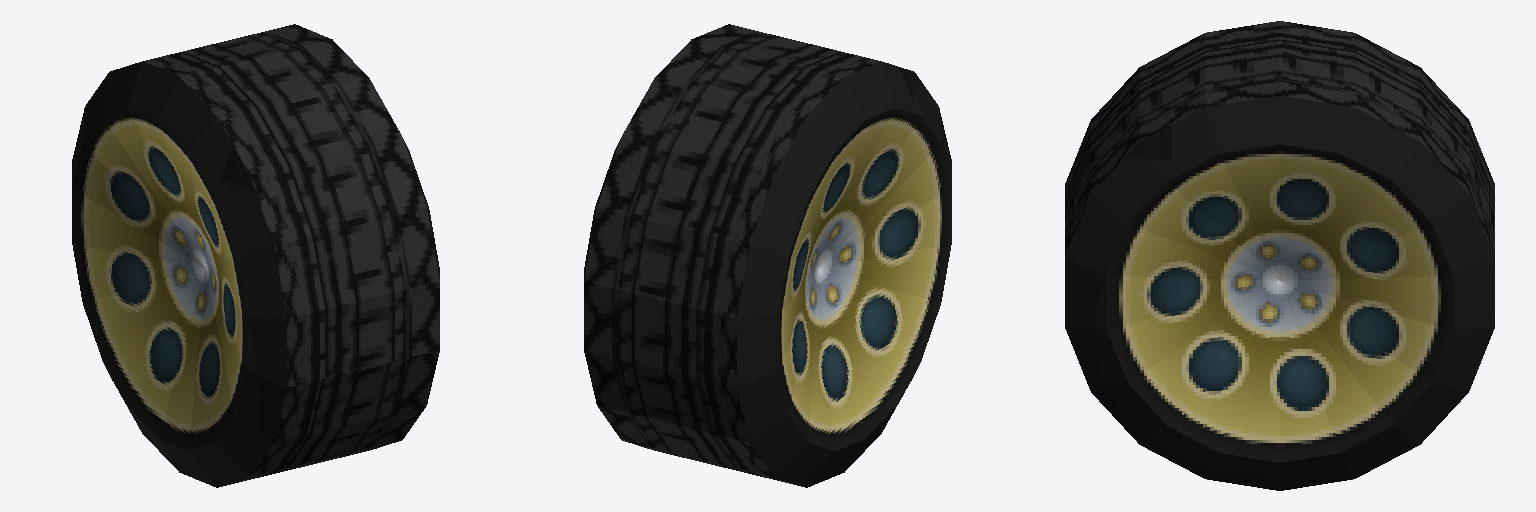
3 renders of one model, left to right at view 1: azimuth 30°, elevation 25°; view 2: azimuth 150°, elevation 25°; view 3: azimuth 270°, elevation 25°, orthographic.
Visible parts, largest first — view 1: Mesh_wheel_Cylinder01x; view 2: Mesh_wheel_Cylinder01x; view 3: Mesh_wheel_Cylinder01x.
Boxes of the visible parts, <box> form: Mesh_wheel_Cylinder01x: <box>72,24,439,487</box>; Mesh_wheel_Cylinder01x: <box>584,24,951,487</box>; Mesh_wheel_Cylinder01x: <box>1065,21,1494,490</box>.
Bounding box in the file's own units: 30.68 × 59.69 × 58.78.
Materials: 1 (1 with a texture image).